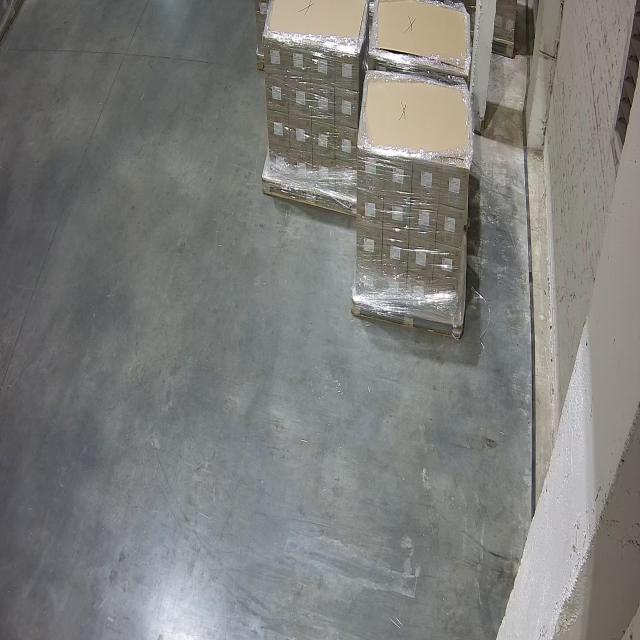pallet: (354, 75, 472, 168), (372, 0, 470, 76), (262, 0, 370, 57)
